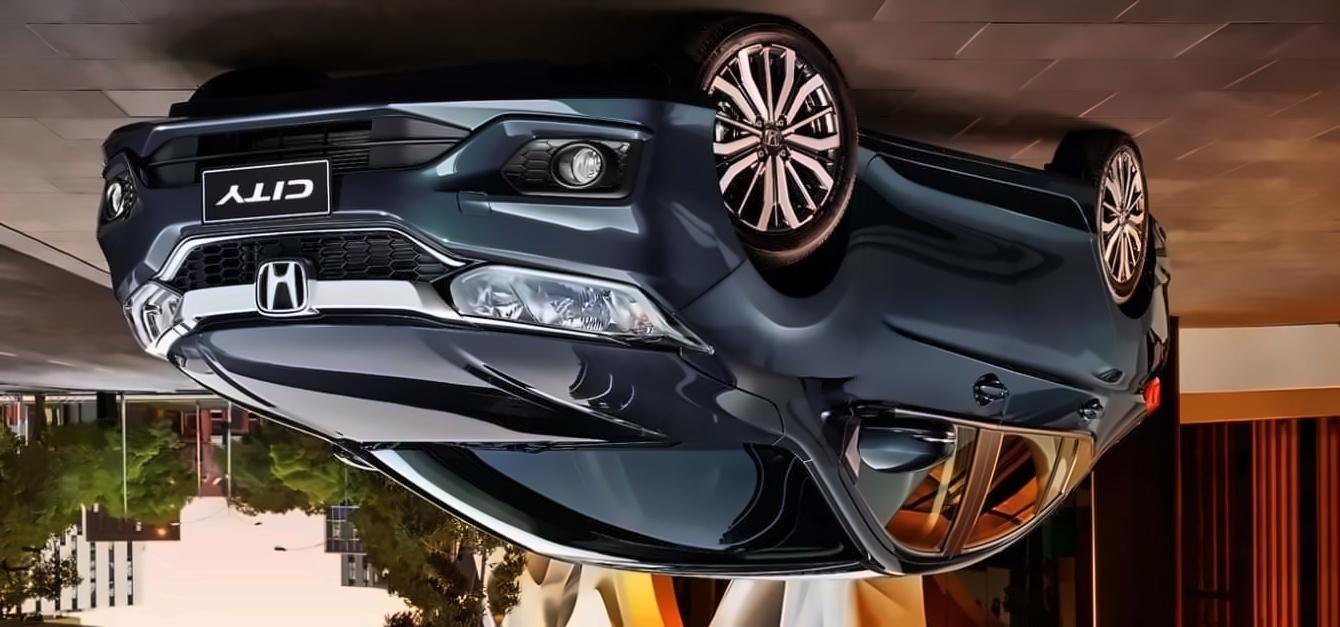Car hood: (158, 308, 787, 452)
Fender - -F-R-: (689, 126, 884, 438)
Fender - -R-R-: (1076, 158, 1155, 462)
Front bumper: (90, 88, 753, 280)
Headlight - -L-: (112, 264, 209, 367)
Headlight - -R-: (436, 258, 727, 362)
Passenger-s door - -F-L-: (840, 138, 1014, 572)
Passenger-s door - -R-L-: (978, 180, 1104, 571)
Rear bumper: (1138, 206, 1182, 289)
Rear light - -R-: (1138, 346, 1176, 427)
Side bumper - -R-: (844, 130, 1098, 213)
Side mirror - -R-: (816, 392, 965, 492)
